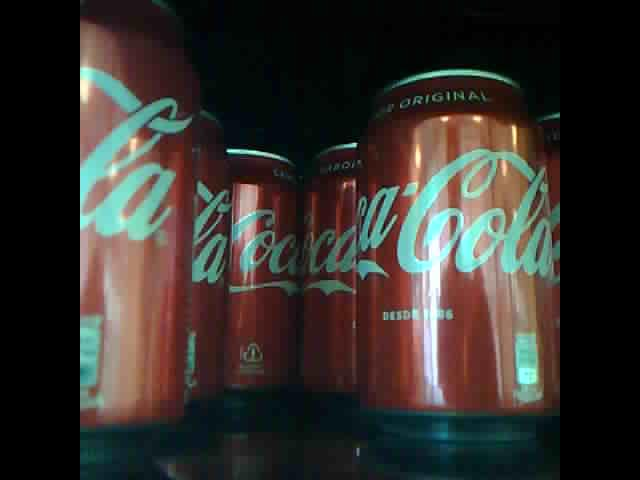coca cola: (357, 58, 552, 429), (79, 3, 196, 438), (225, 139, 300, 397), (304, 136, 359, 409), (191, 106, 229, 415), (531, 104, 560, 253)
